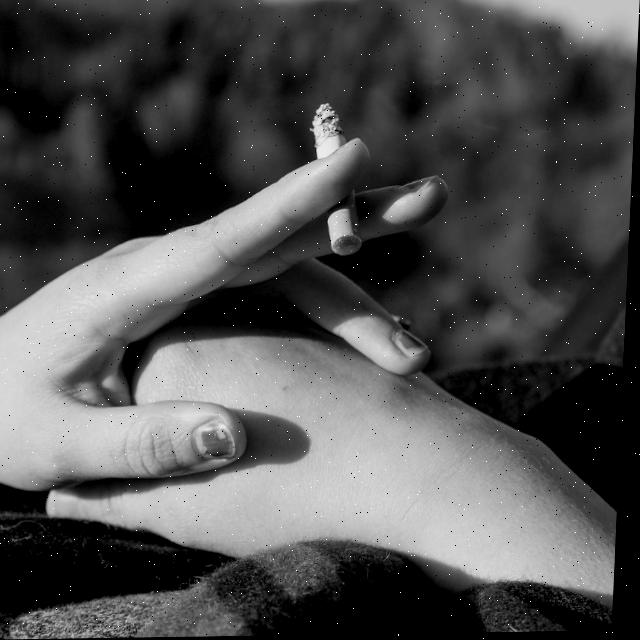cigarette: (306, 103, 369, 257)
